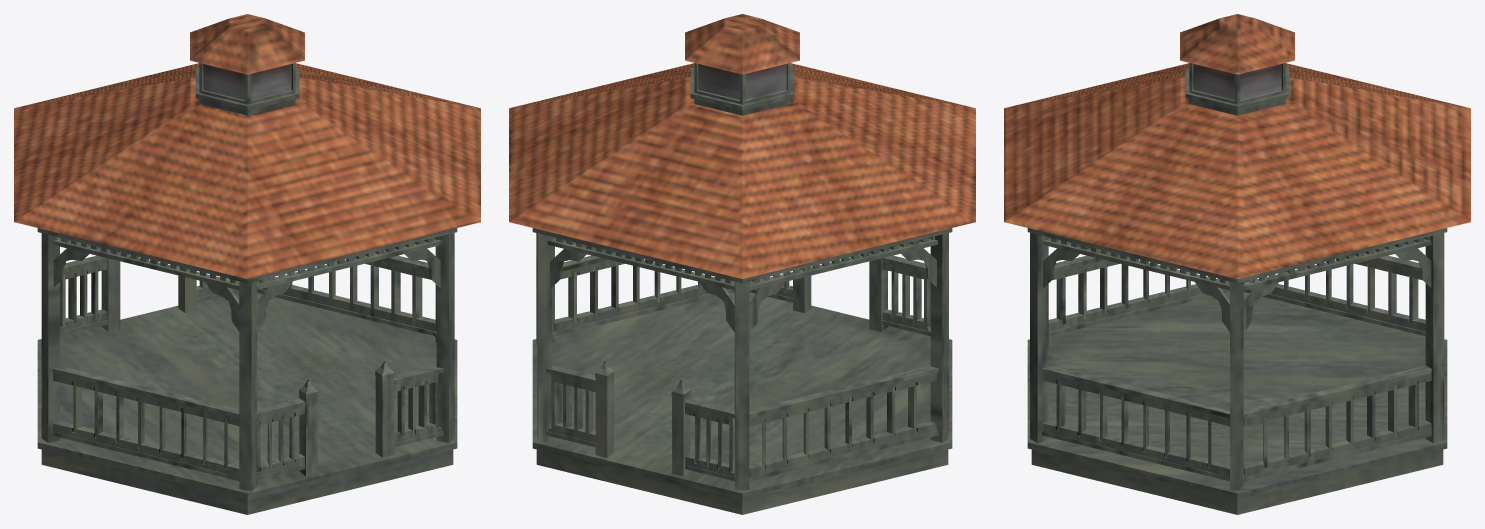
Rendered from 20240128053812-gazebo.glb.
The picture shows the model from 3 angles, left to right: view 1: azimuth 30°, elevation 25°; view 2: azimuth 150°, elevation 25°; view 3: azimuth 270°, elevation 25°; orthographic projection.
Visible parts, largest first — view 1: 10073_Gazebo_V2_L3; view 2: 10073_Gazebo_V2_L3; view 3: 10073_Gazebo_V2_L3.
Boxes of the visible parts, x1,y1,x2,y2 form: 10073_Gazebo_V2_L3: (14, 14, 480, 514); 10073_Gazebo_V2_L3: (509, 14, 975, 514); 10073_Gazebo_V2_L3: (1004, 14, 1470, 514).
Size of the model in its own units: 4.72 by 3.79 by 4.09.
Materials: 1 (1 with a texture image).
